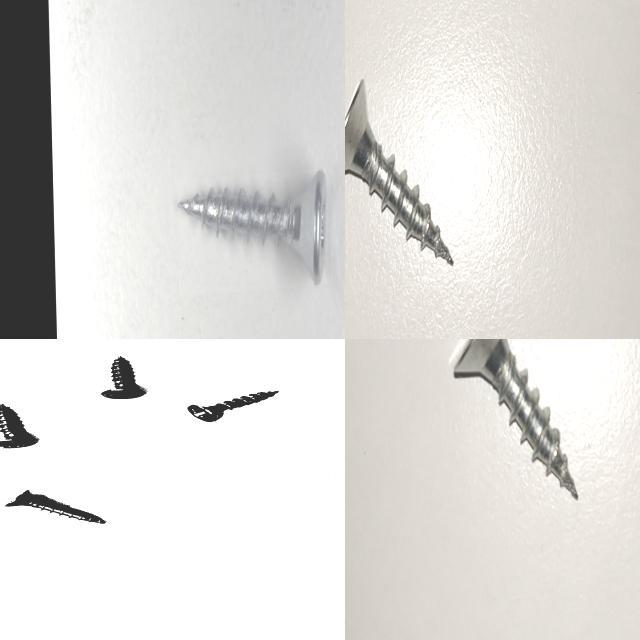Screw: (345, 79, 453, 264), (454, 339, 578, 499), (179, 170, 327, 285), (4, 490, 105, 524), (186, 391, 279, 422), (100, 356, 147, 399), (0, 404, 38, 448)
